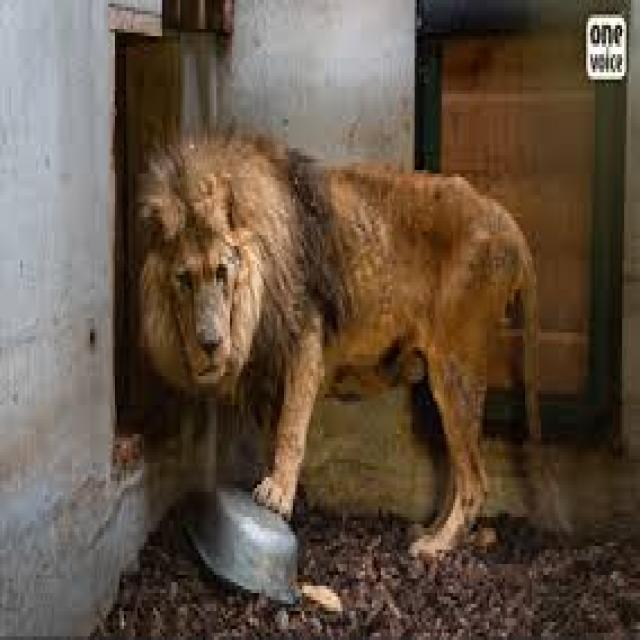Lion: (137, 136, 553, 560)
